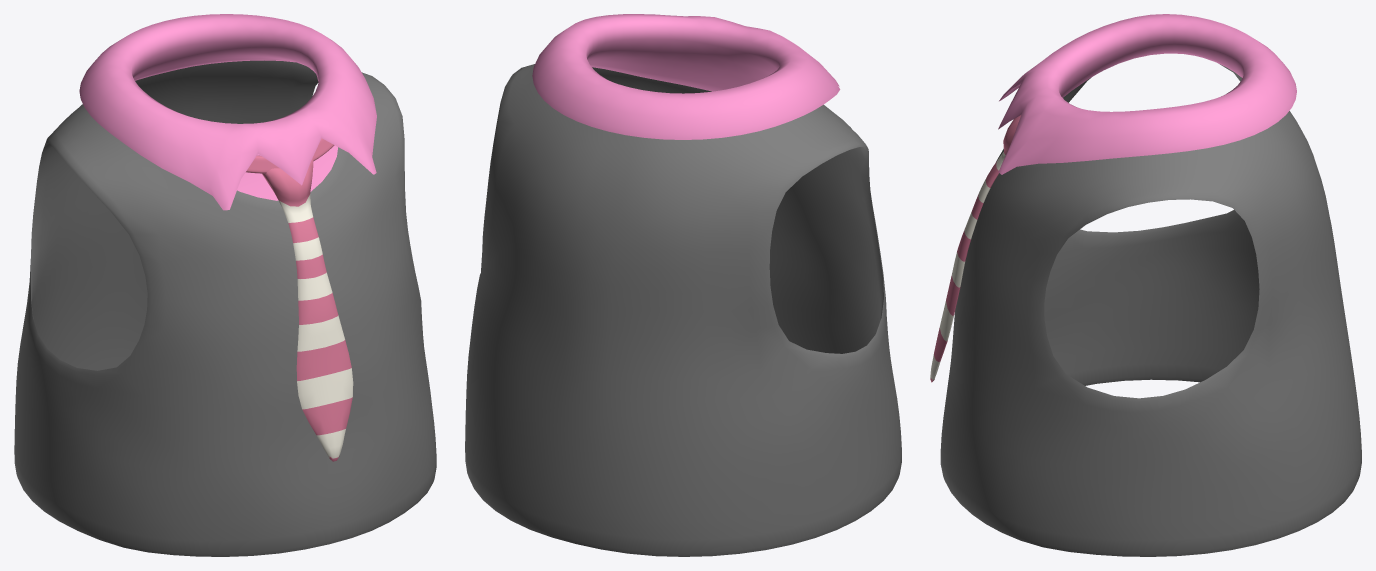
The model's file is Tie.gltf.
3 renders of one model, left to right at view 1: azimuth 30°, elevation 25°; view 2: azimuth 150°, elevation 25°; view 3: azimuth 270°, elevation 25°, orthographic. The views are drawn at different scales.
Visible parts, largest first — view 1: cloth4-PBR.2, cloth4-PBR.1, cloth4-PBR.3, cloth4-PBR; view 2: cloth4-PBR.2, cloth4-PBR.1; view 3: cloth4-PBR.2, cloth4-PBR.1, cloth4-PBR.3, cloth4-PBR.
Part boxes in pixels (x1,y1,x2,y2): cloth4-PBR.2: (14, 60, 436, 556); cloth4-PBR.1: (79, 14, 376, 210); cloth4-PBR.3: (246, 138, 352, 461); cloth4-PBR: (278, 194, 353, 458); cloth4-PBR.2: (465, 64, 901, 556); cloth4-PBR.1: (532, 14, 840, 139); cloth4-PBR.2: (940, 64, 1361, 556); cloth4-PBR.1: (998, 14, 1296, 174); cloth4-PBR.3: (930, 115, 1020, 382); cloth4-PBR: (930, 152, 1005, 380).
Bounding box in the file's own units: 6.05 × 6.46 × 6.19.
